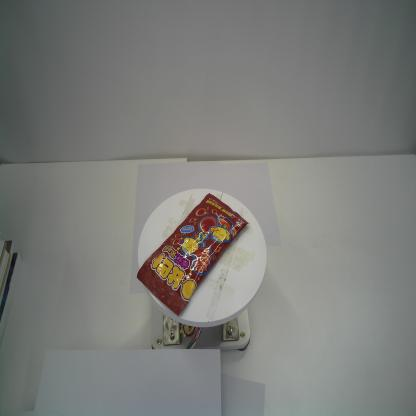Candy: (136, 192, 249, 316)
